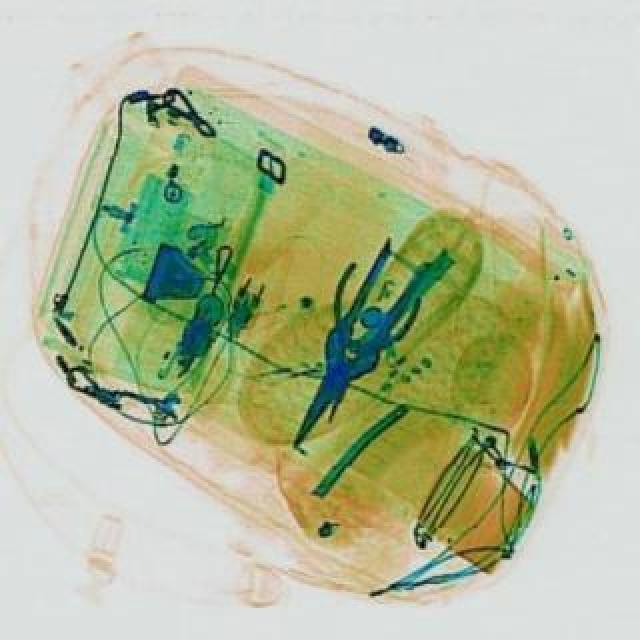wrench: (276, 256, 428, 436)
